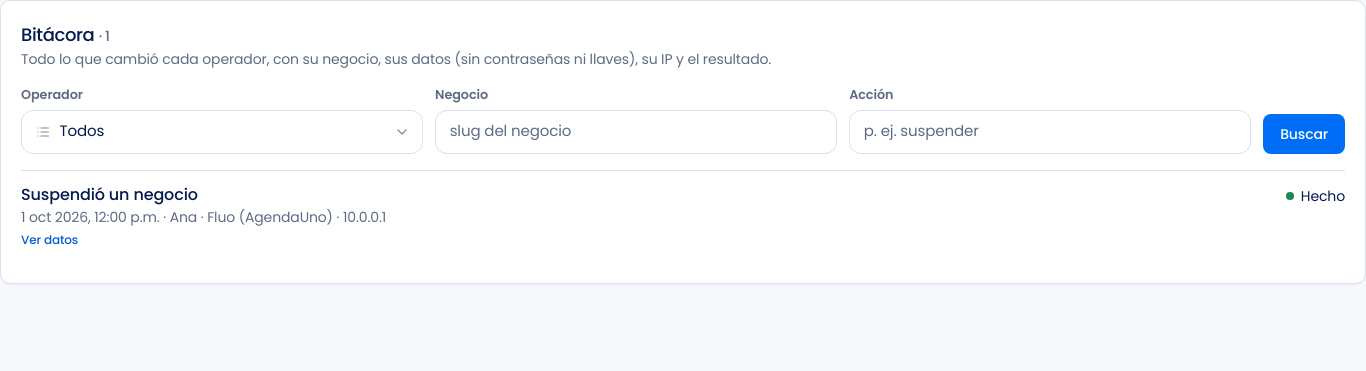
Test: equipo del superadmin › la bitácora dice qué hizo cada quien, en qué negocio y si se hizo
Expected: the list item shows "Suspendió un negocio", [21, 182, 198, 206]
Expected: the list item shows "Fluo (AgendaUno)", [201, 206, 336, 226]
What coordinates should you click on to do the following:
click the button "Ver datos"
I would click on:
 (50, 240)
Its box is [21, 232, 78, 248].
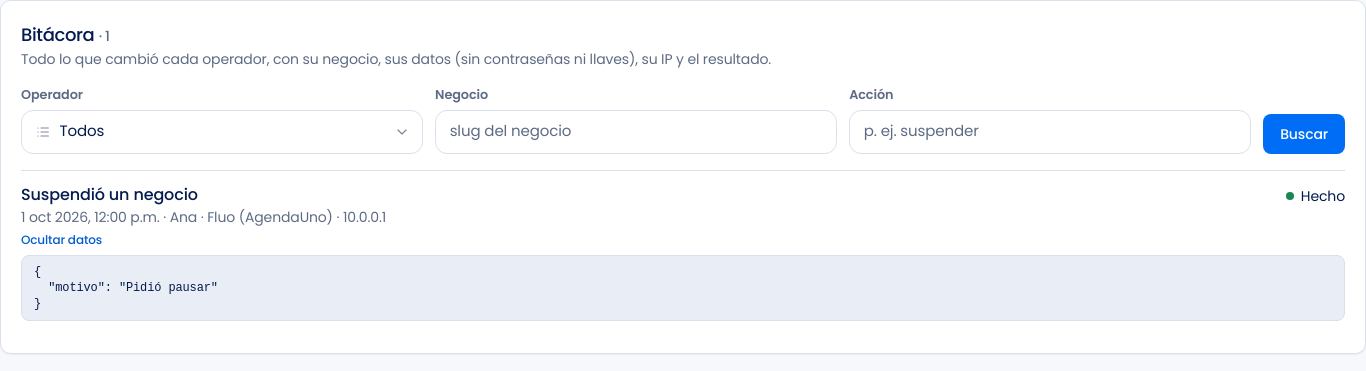
Expected: the list item shows "Pidió pausar", [34, 264, 218, 310]
